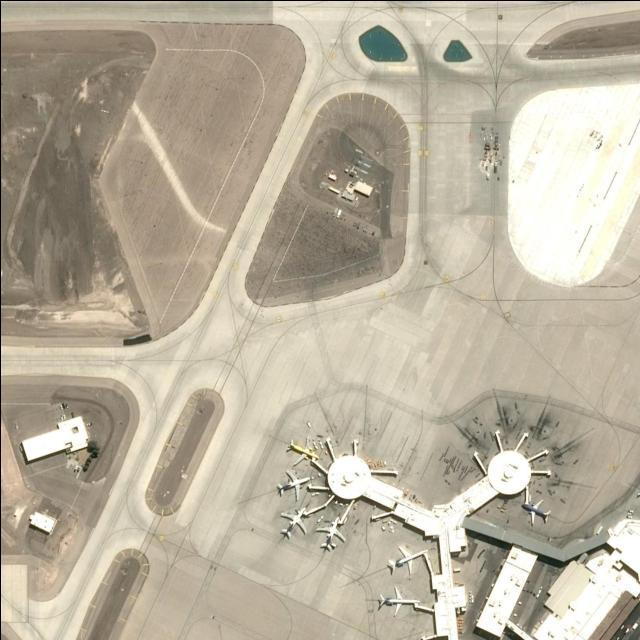Aircraft: (376, 587, 421, 618), (273, 469, 310, 504), (386, 546, 427, 576), (313, 518, 345, 552), (284, 436, 320, 466), (518, 497, 552, 528), (278, 507, 308, 541)
